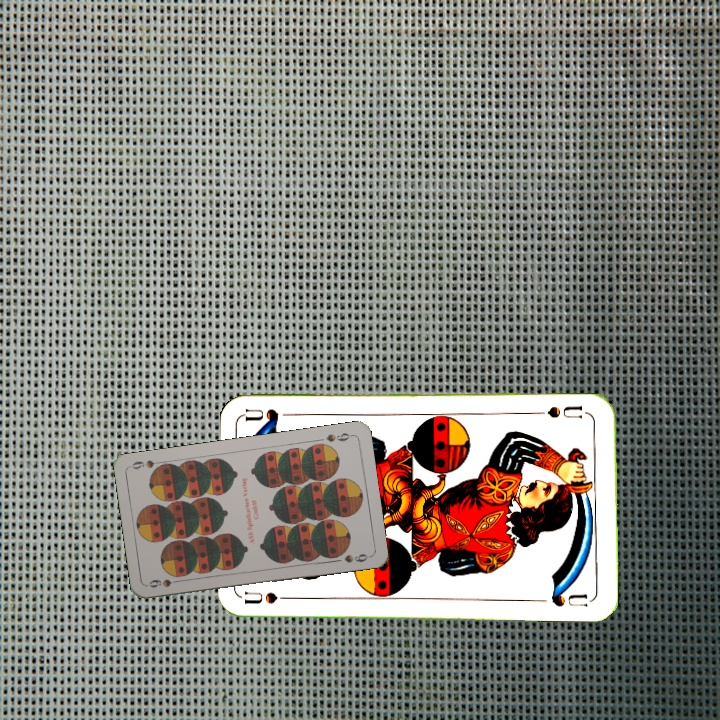S9: (145, 575, 185, 590), (322, 429, 355, 444)
SU: (243, 588, 302, 606), (543, 401, 593, 421)
